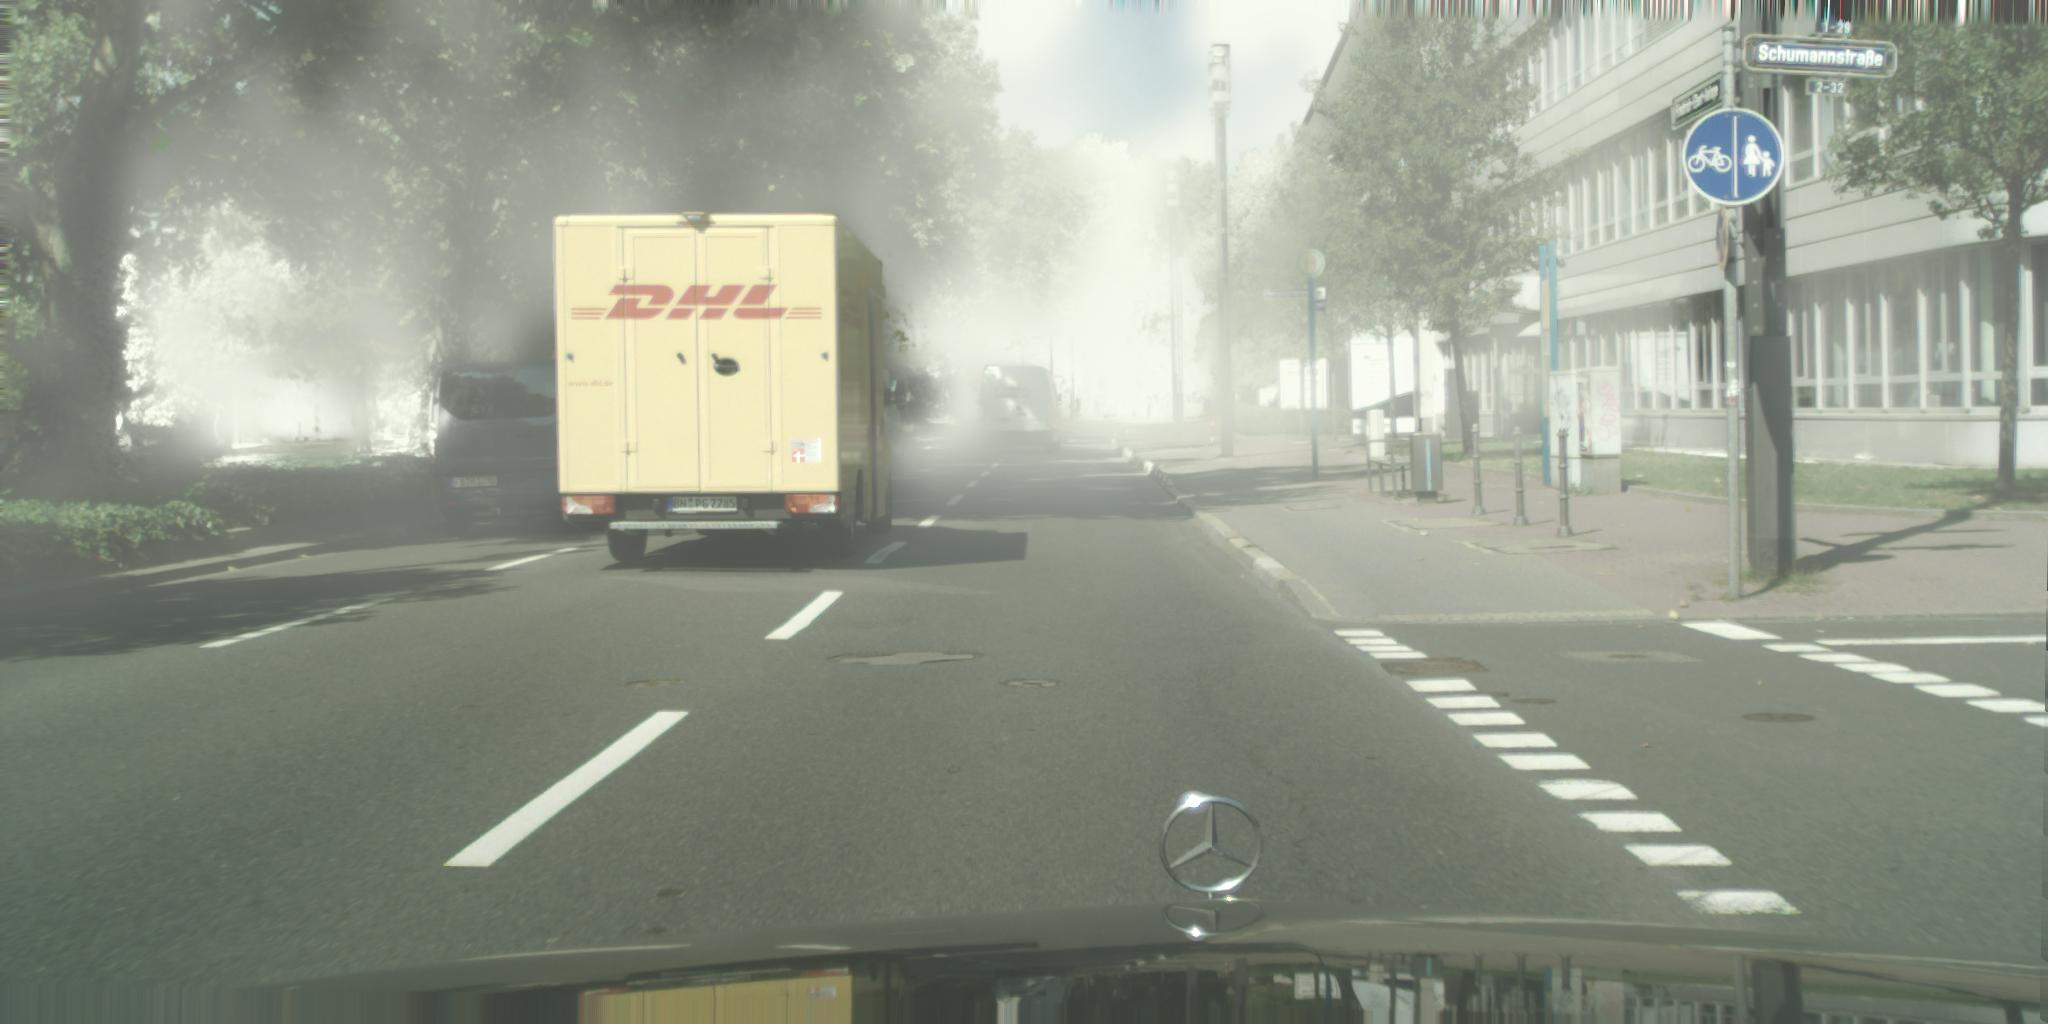car: (428, 358, 590, 538), (977, 364, 1063, 456), (859, 368, 905, 458)
truck: (552, 212, 913, 566)
